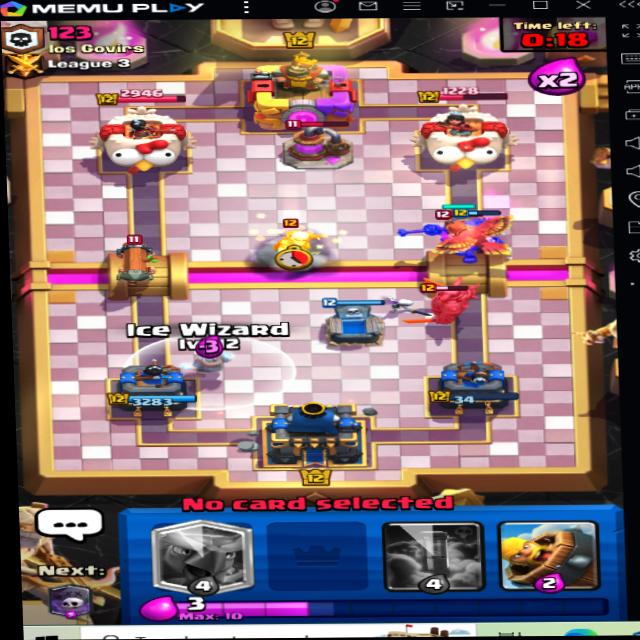Battleram: (109, 233, 155, 292)
Marcher: (266, 219, 326, 271)
Pekka: (414, 280, 488, 331)
skellyking: (419, 208, 498, 270)
